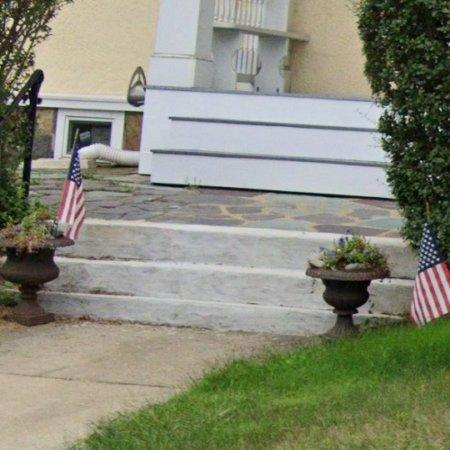stairs: (41, 176, 401, 336), (360, 237, 417, 315)
